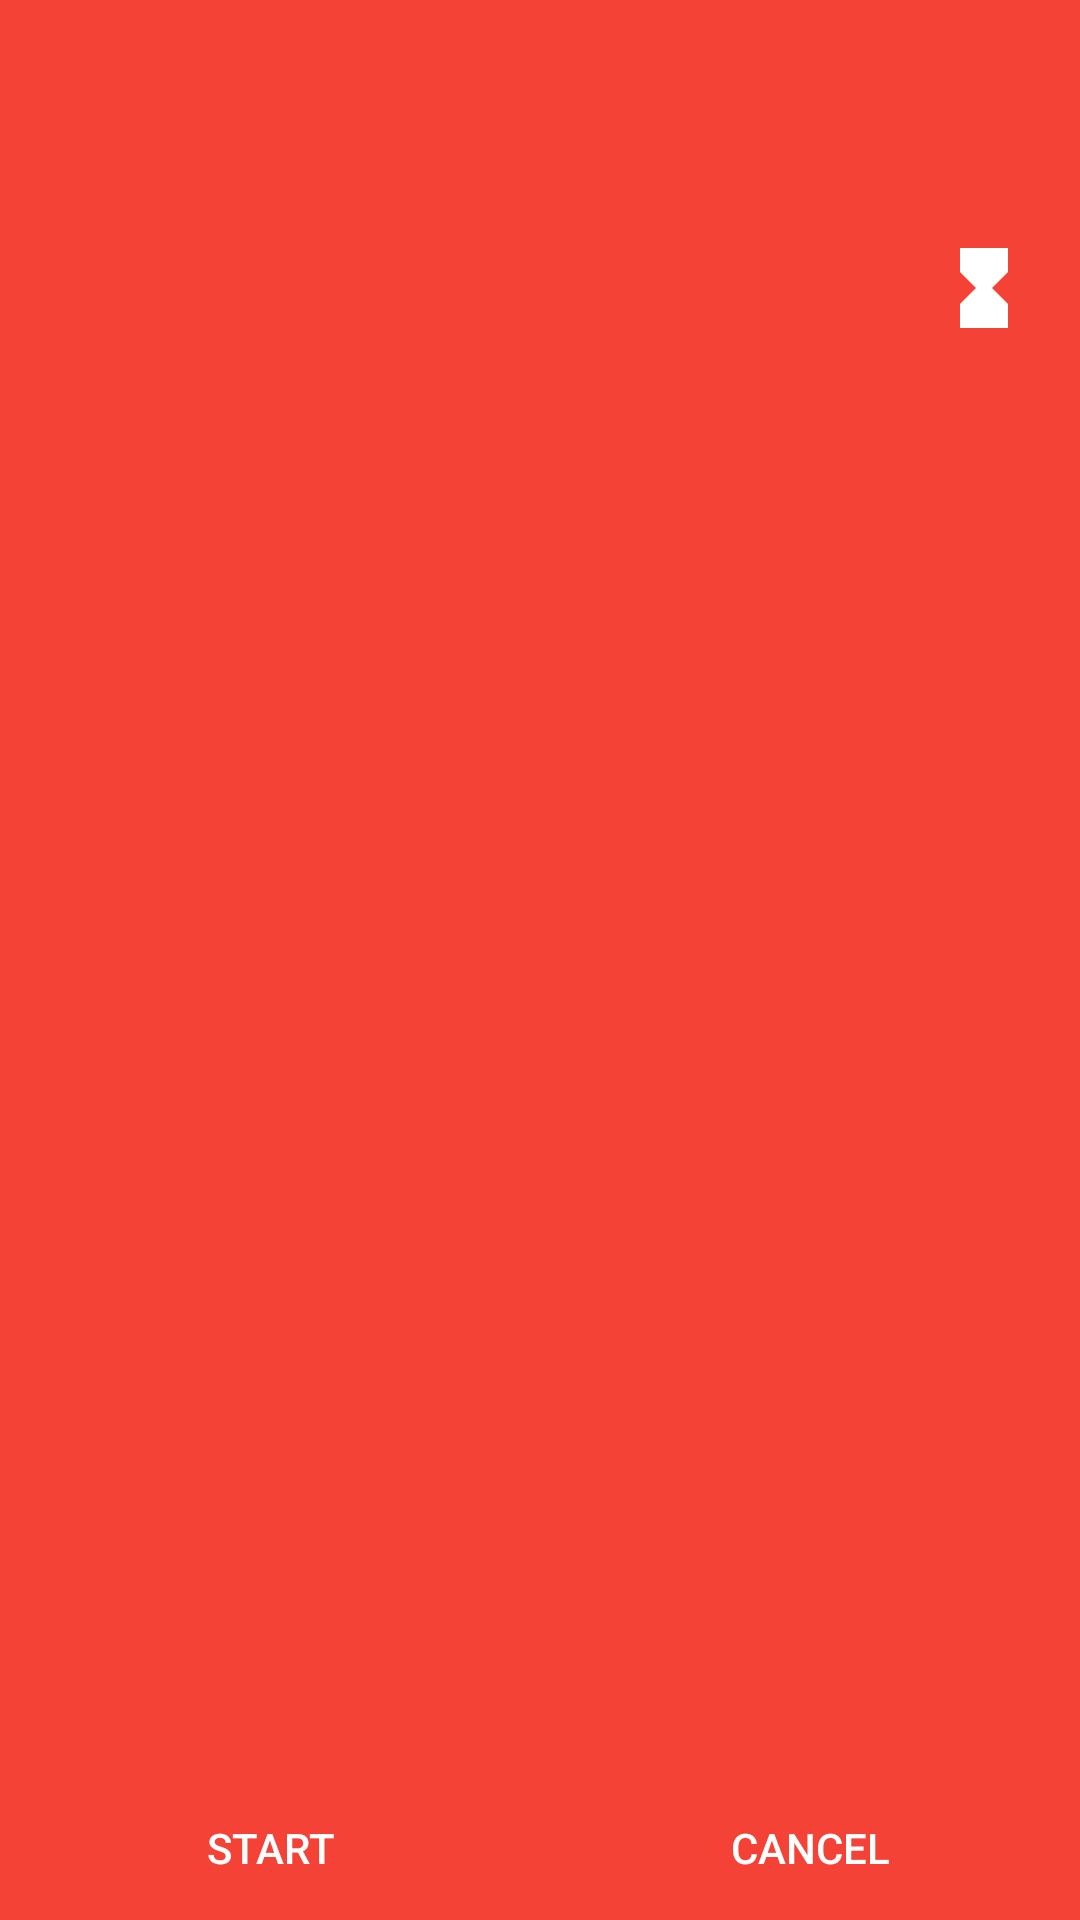

Icon bounding boxes for this 1080 x 1920 phone screenshot, format (x1,y1,x2,y2):
Toggle break and work timer: (960,248,1008,328)
